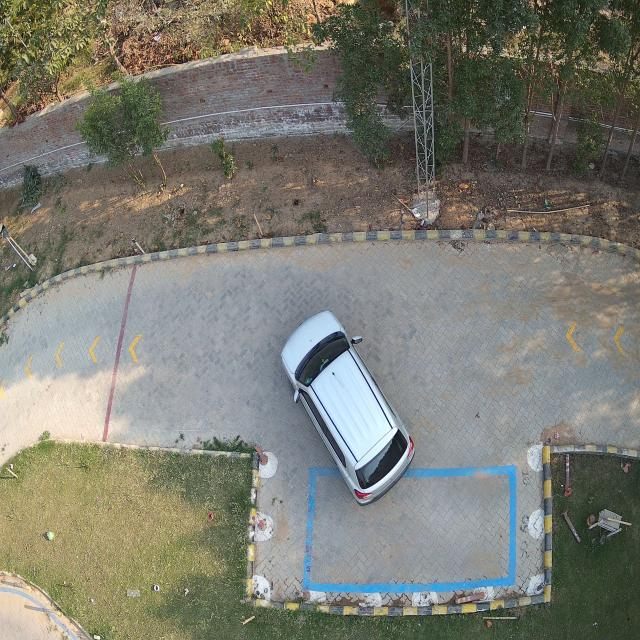car: (281, 310, 416, 507)
